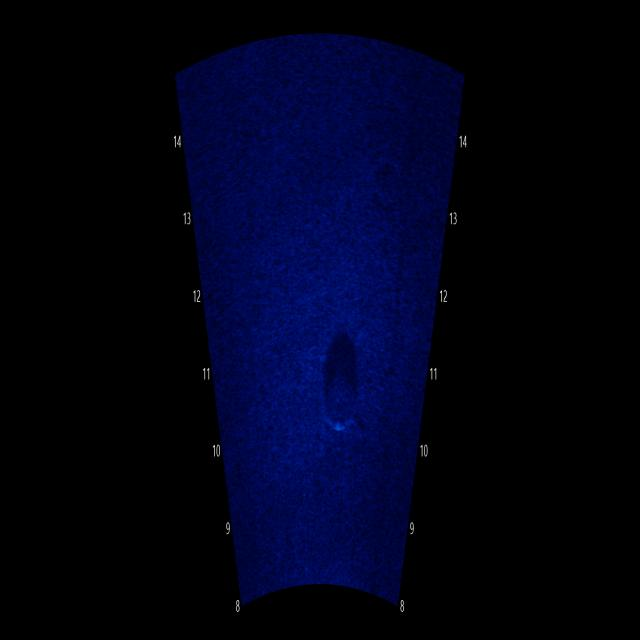circle: (319, 358, 361, 446)
